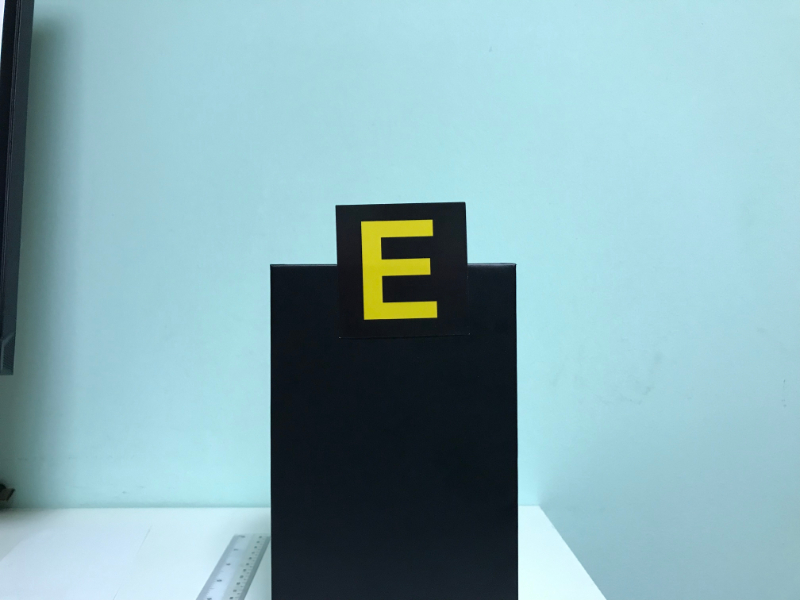E-15: (339, 206, 465, 335)
